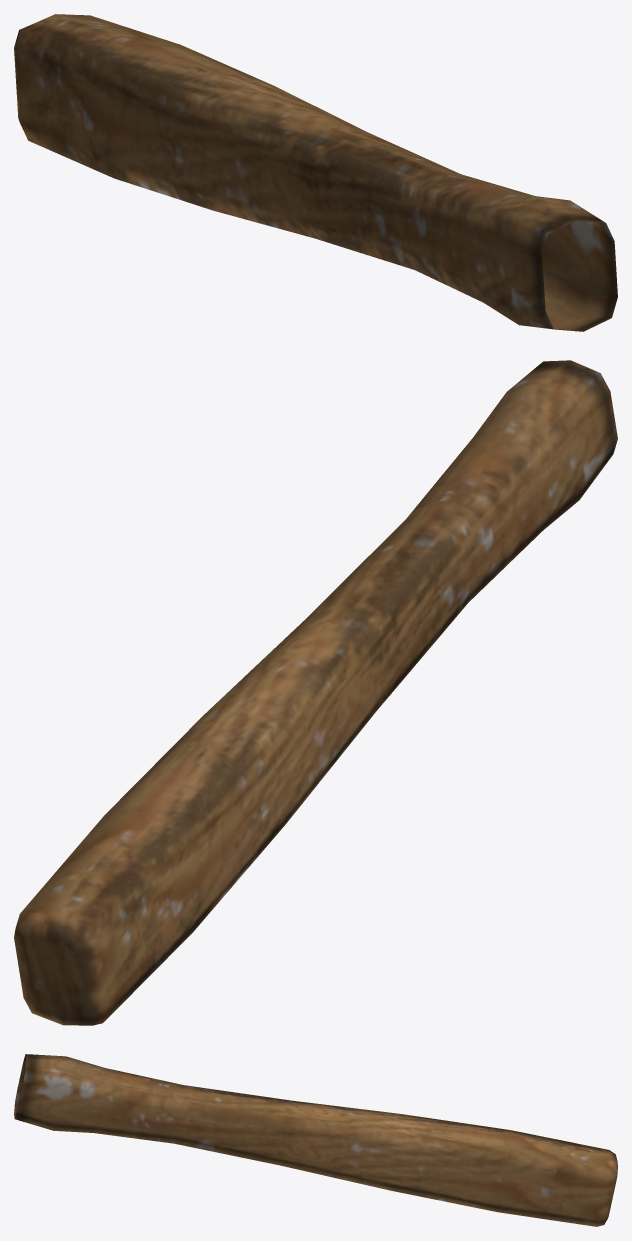
The model's file is Hammer_Handle_low.obj.
3 renders of one model, top to bottom at view 1: azimuth 30°, elevation 25°; view 2: azimuth 150°, elevation 25°; view 3: azimuth 270°, elevation 25°, orthographic. The views are drawn at different scales.
Bounding box in the file's own units: 0.0205 × 0.0628 × 0.2101.
Materials: 1 (1 with a texture image).
